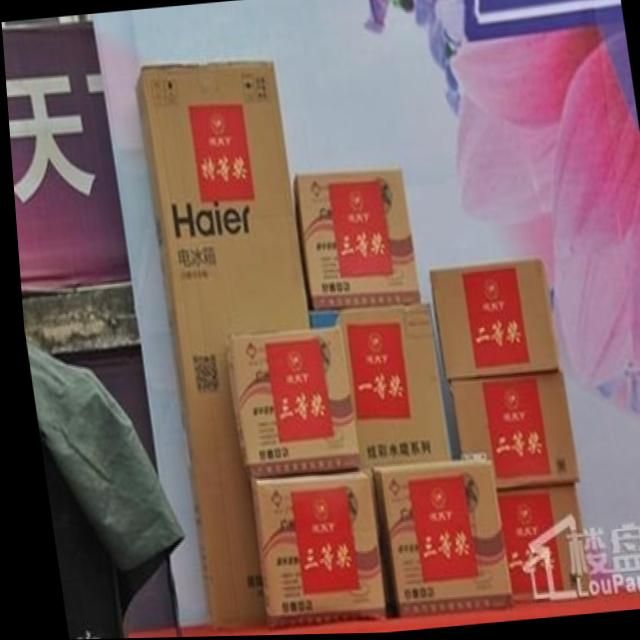box: (132, 60, 306, 631), (331, 303, 442, 608), (363, 459, 506, 617), (241, 468, 378, 628), (218, 326, 355, 478), (289, 168, 417, 310), (441, 371, 574, 493), (423, 260, 554, 383), (490, 483, 586, 603)
